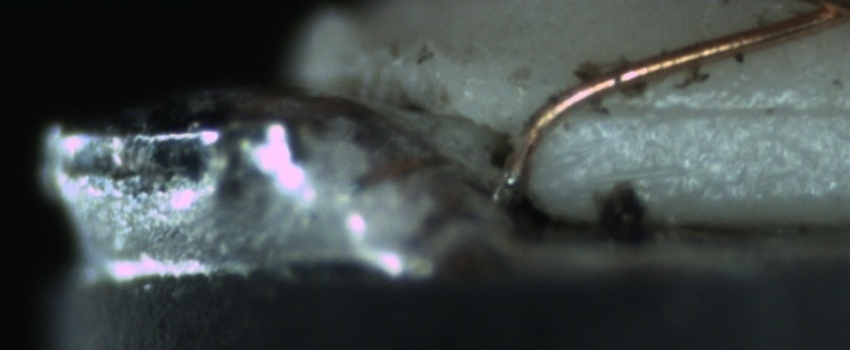CL: (776, 0, 850, 32)
DL: (613, 72, 841, 148)
